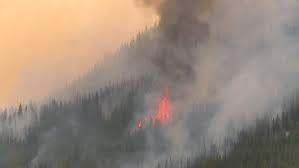fire: (131, 81, 175, 128)
yanwu: (1, 1, 297, 166)
